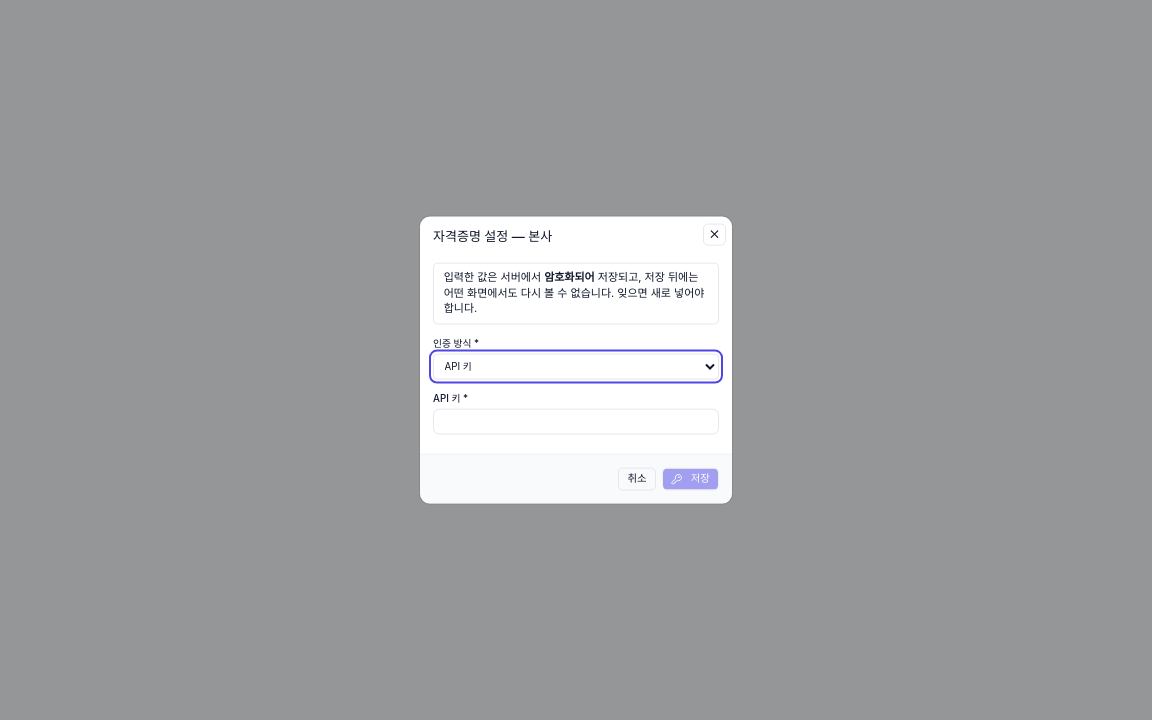
Test: 자격증명 입력 › 필수 칸이 비면 저장할 수 없다
Select "액세스 키 + 시크릿" in the dropdown labelled "인증 방식 *" at [576, 366], box [433, 353, 719, 379]
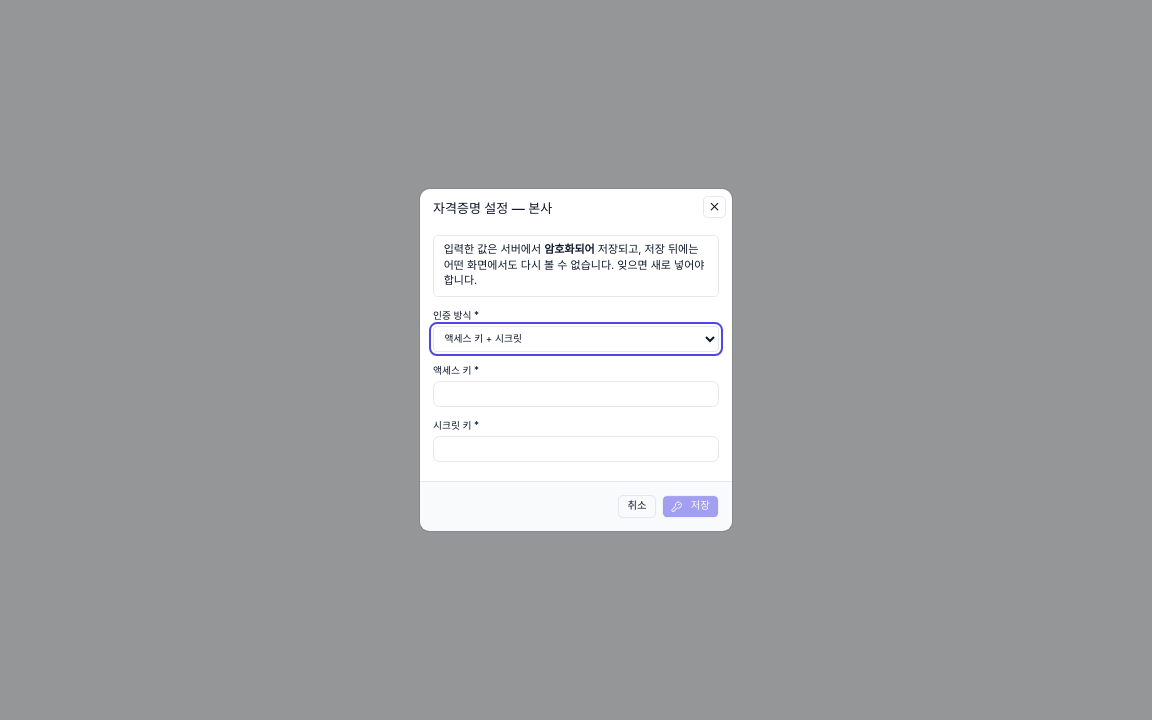
Check: the button "저장" is disabled, box [662, 495, 719, 518]
Type "AK" into the field with id "cred-access_key" at [576, 394], box [433, 381, 719, 407]
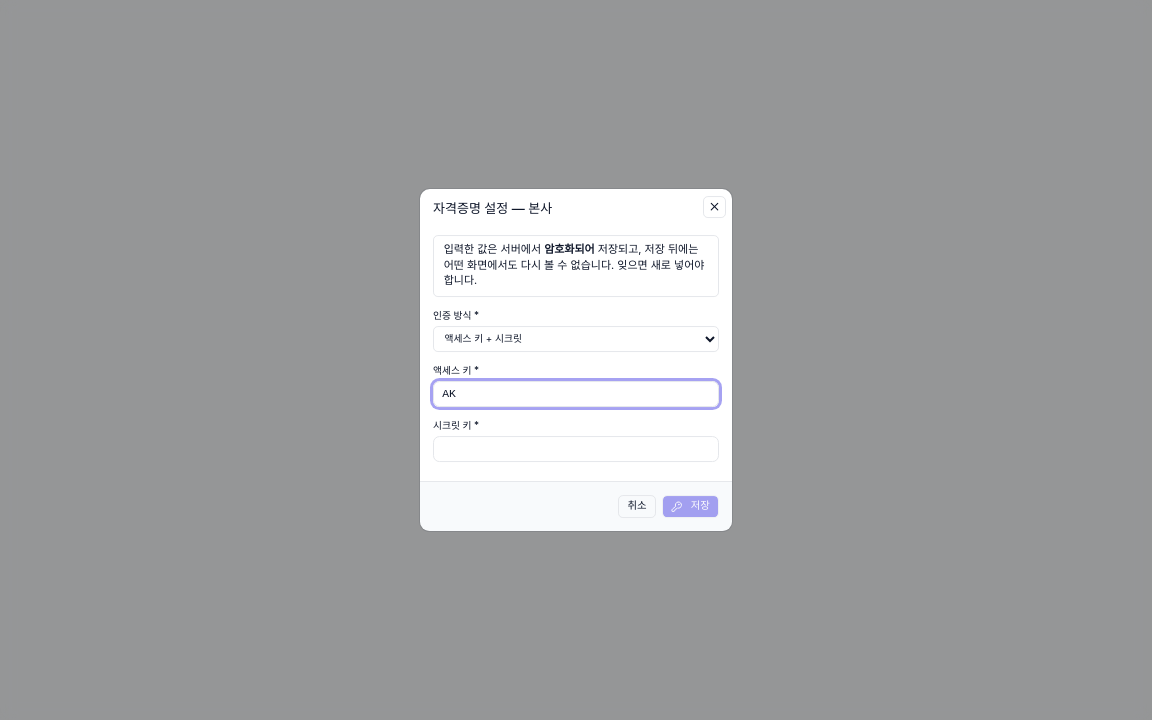
Check: the button "저장" is disabled, box [662, 495, 719, 518]
Type "SELLER_OS_SUPER_SECRET_12345" into the password field with id "cred-secret_key" at [576, 449], box [433, 436, 719, 462]
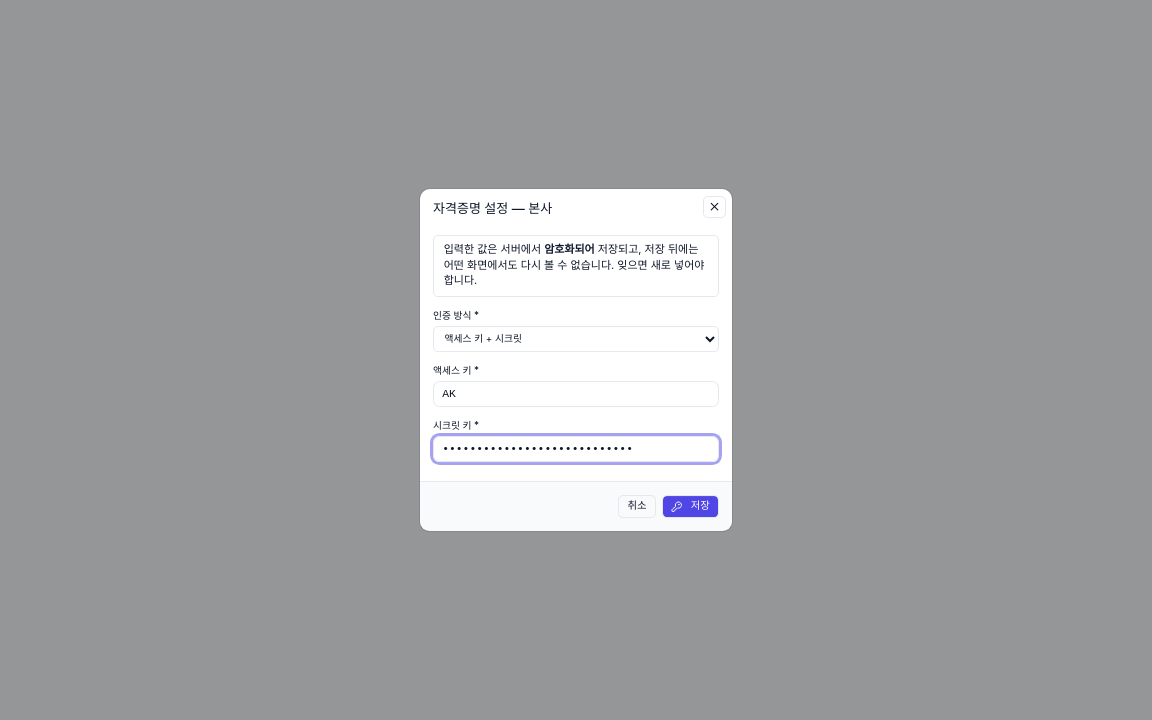
Check: the button "저장" is enabled, box [662, 495, 719, 518]
